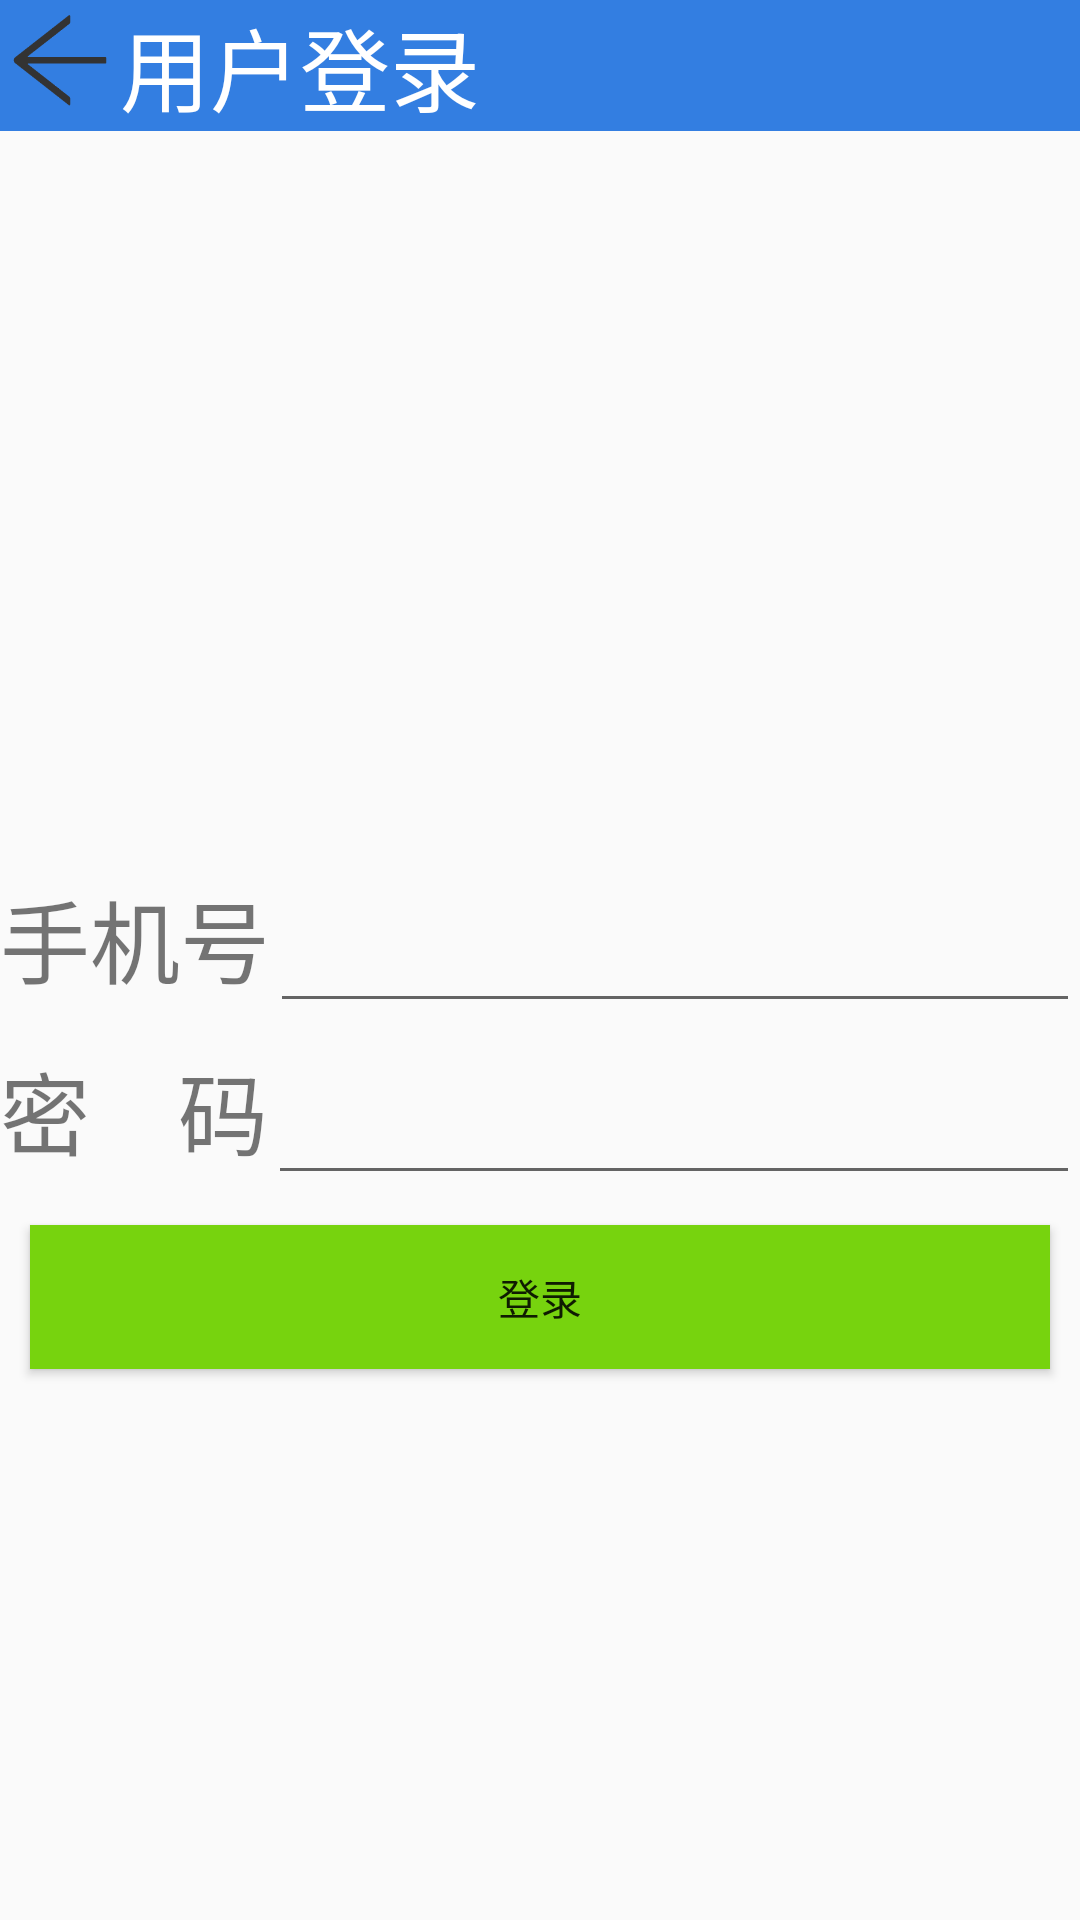

Locate icon controls on the screen. Image size 1080px x 1920px, boxes as {"x1": x1, "y1": y1, "x2": x2, "y2": y2}.
arrow: {"x1": 13, "y1": 15, "x2": 107, "y2": 106}
